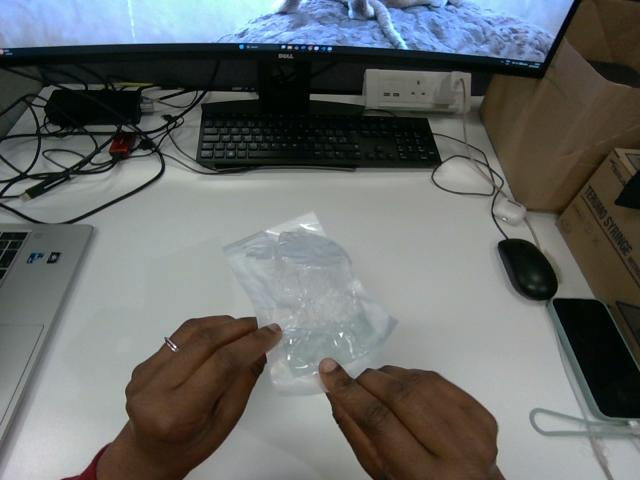gallipot: (223, 214, 396, 394)
